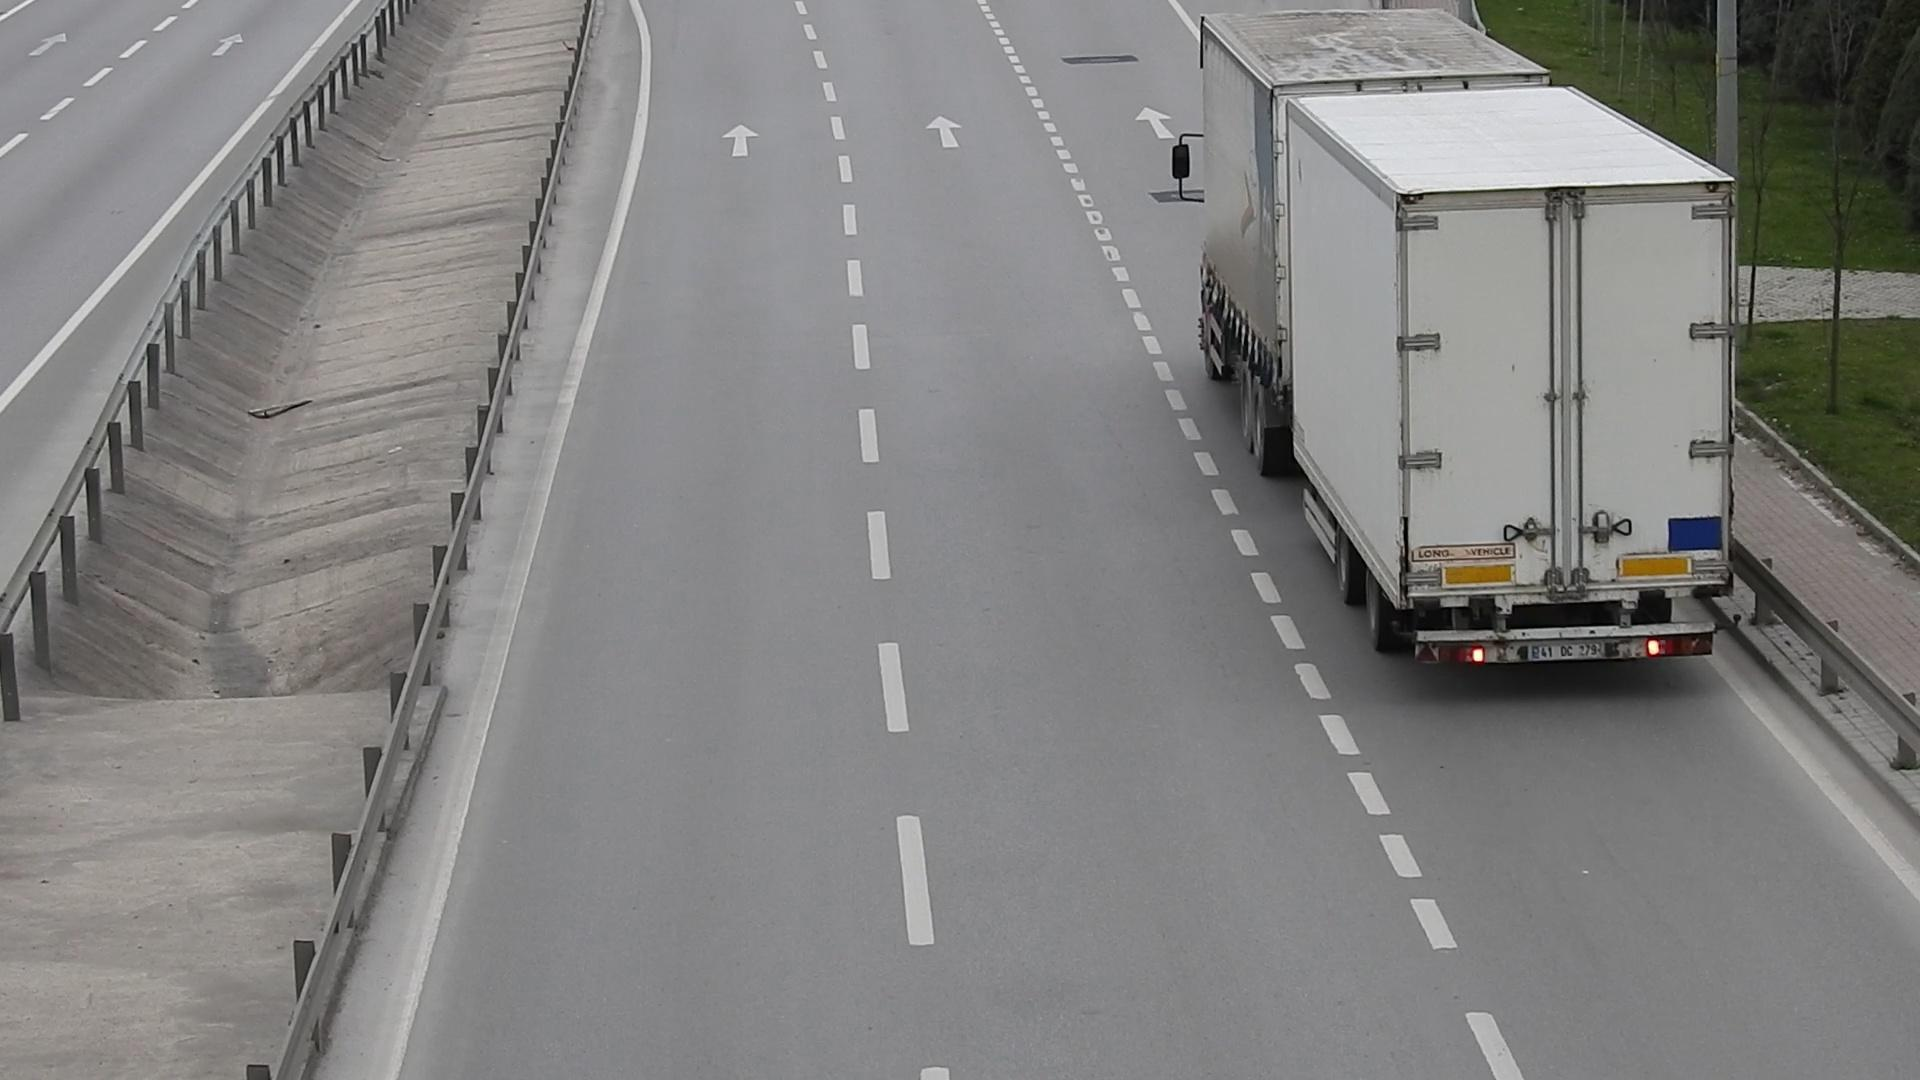Truck: (1163, 0, 1738, 684)
